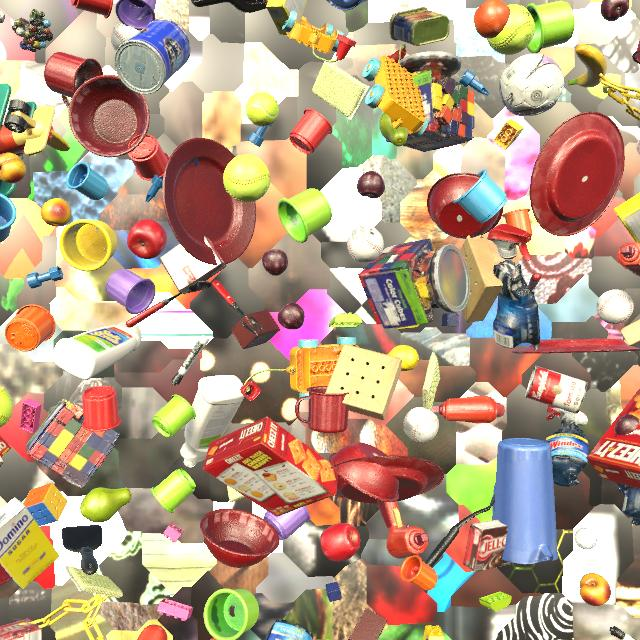ycb_002_master_chef_can: (114, 18, 191, 94)
ycb_003_cracker_box: (203, 417, 338, 517), (586, 389, 640, 488), (0, 436, 12, 457)
ycb_004_sugar_box: (0, 497, 59, 589), (266, 0, 308, 35), (613, 193, 640, 243), (404, 237, 419, 243)
ycb_005_tomato_soup_can: (525, 365, 587, 414)
ycb_008_pudding_box: (159, 236, 227, 294), (463, 520, 511, 572), (0, 455, 4, 467)
ycb_009_gelatin_box: (0, 618, 42, 640)
ycb_010_potted_meat_can: (389, 7, 450, 46)
ycb_011_banana: (568, 44, 607, 88)
ycb_013_apple: (127, 219, 167, 259), (320, 523, 360, 561)
ycb_014_lemon: (387, 345, 419, 371)
ycb_015_peach: (580, 573, 611, 606), (41, 198, 72, 227), (0, 153, 26, 184)
ycb_016_pear: (80, 487, 132, 523), (379, 113, 408, 146)
ycb_017_orange: (474, 0, 510, 39)
ycb_018_plum: (277, 302, 305, 330), (357, 171, 385, 198), (262, 249, 288, 276), (600, 0, 629, 21), (614, 414, 640, 435)
